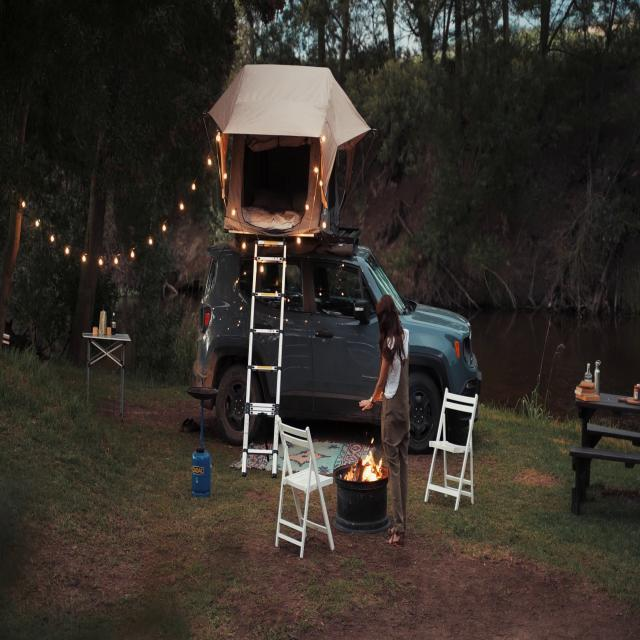Fire: (352, 440, 386, 488)
